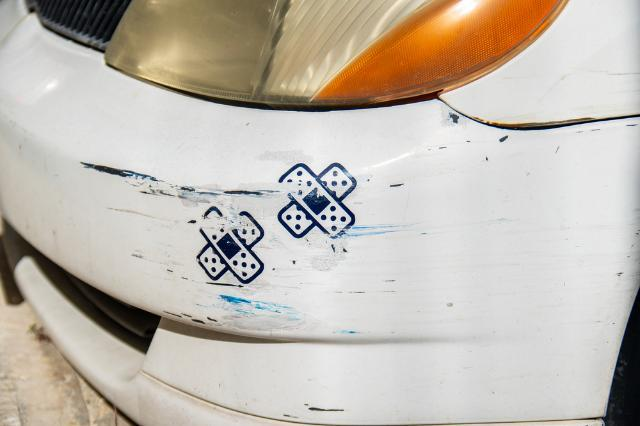scratch: (72, 106, 506, 335)
